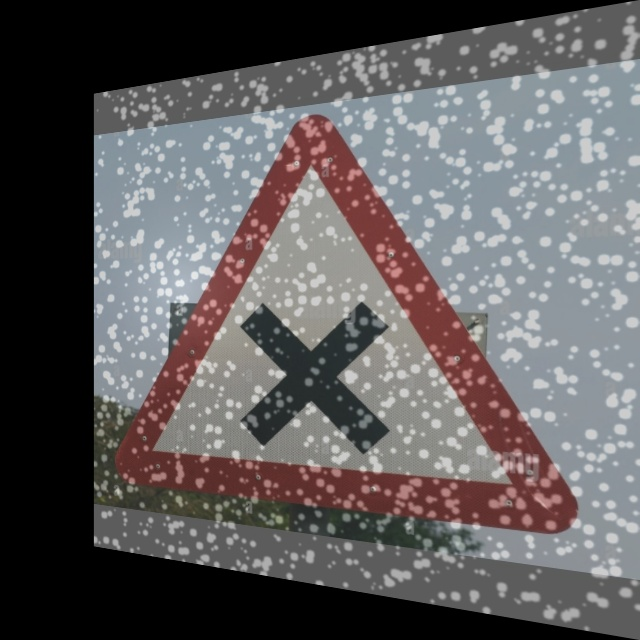Cross_Road: (143, 84, 578, 540)
